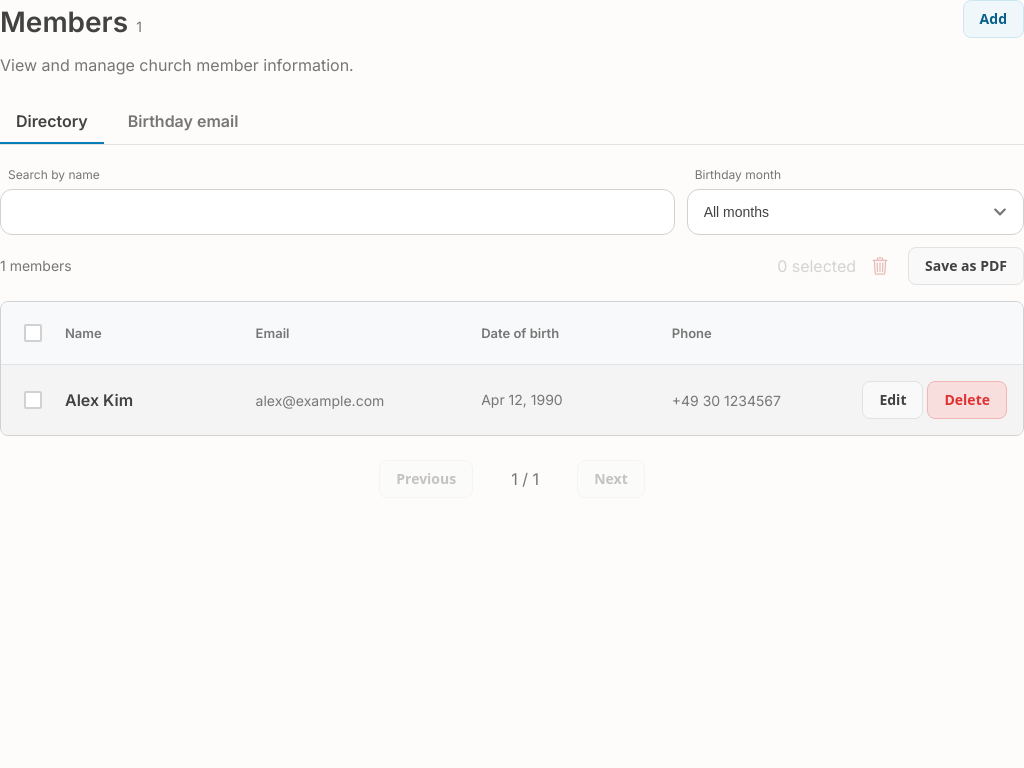
Scenario: Members add dialog validation › opens the edit dialog with the selected member values
The width and height of the screenshot is (1024, 768).
Later steps or results of the test are not shown.
Click the button "Edit" at (893, 400), box [862,381,924,419]
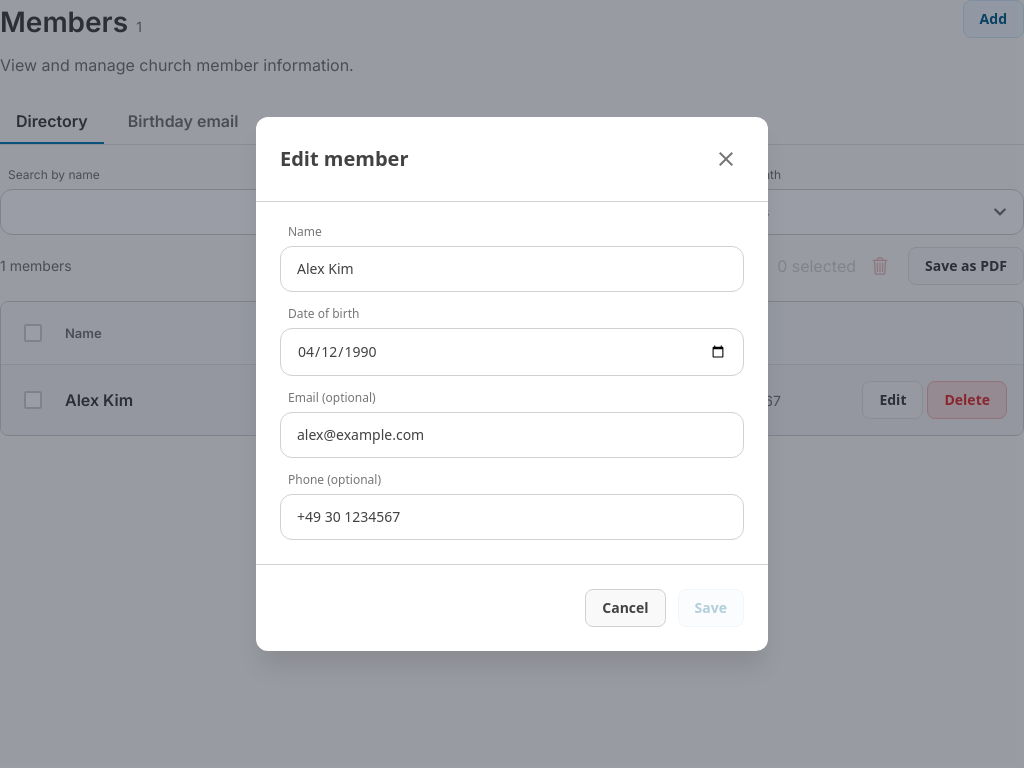
Expected: the heading "Edit member" is shown, [280,143,408,175]
Expected: the field labelled "Name" holds "Alex Kim", [297,259,727,279]
Expected: the date field labelled "Date of birth" holds "1990-04-12", [297,341,727,363]
Replace the text in the field labelled "Email (optional)" with "alex@example.org" at (512, 435), box [297,425,727,445]
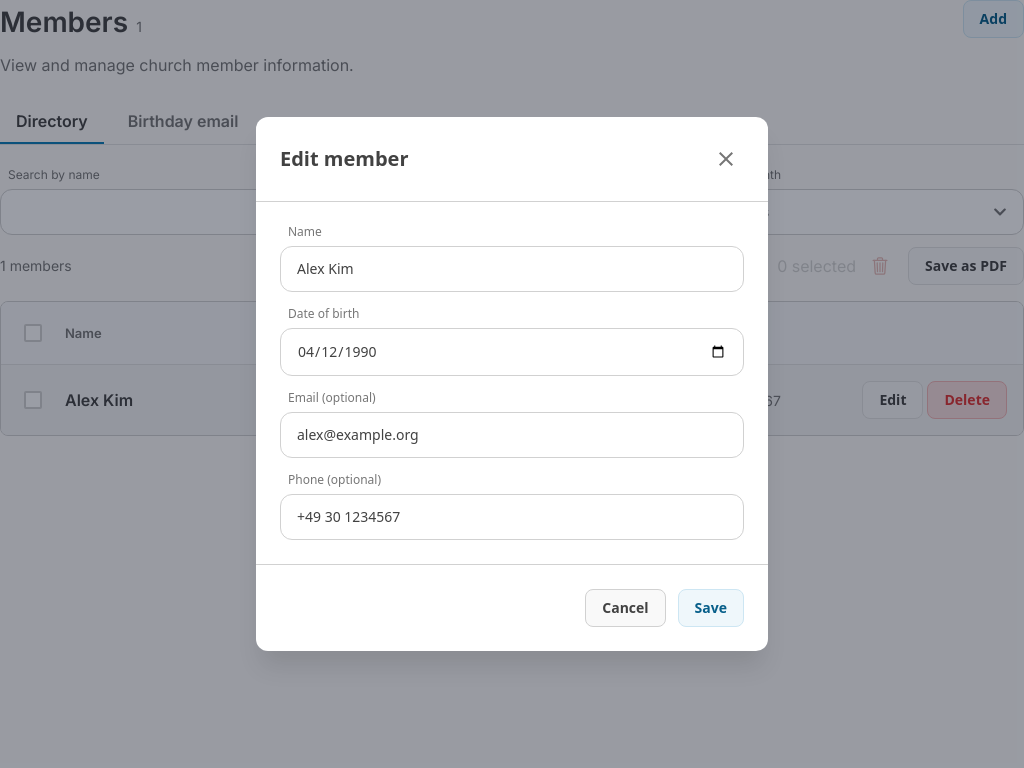
Expected: the button "Save" is enabled, [678,589,744,627]
Replace the text in the field labelled "Email (optional)" with "alex@example.com" at (512, 435), box [297,425,727,445]
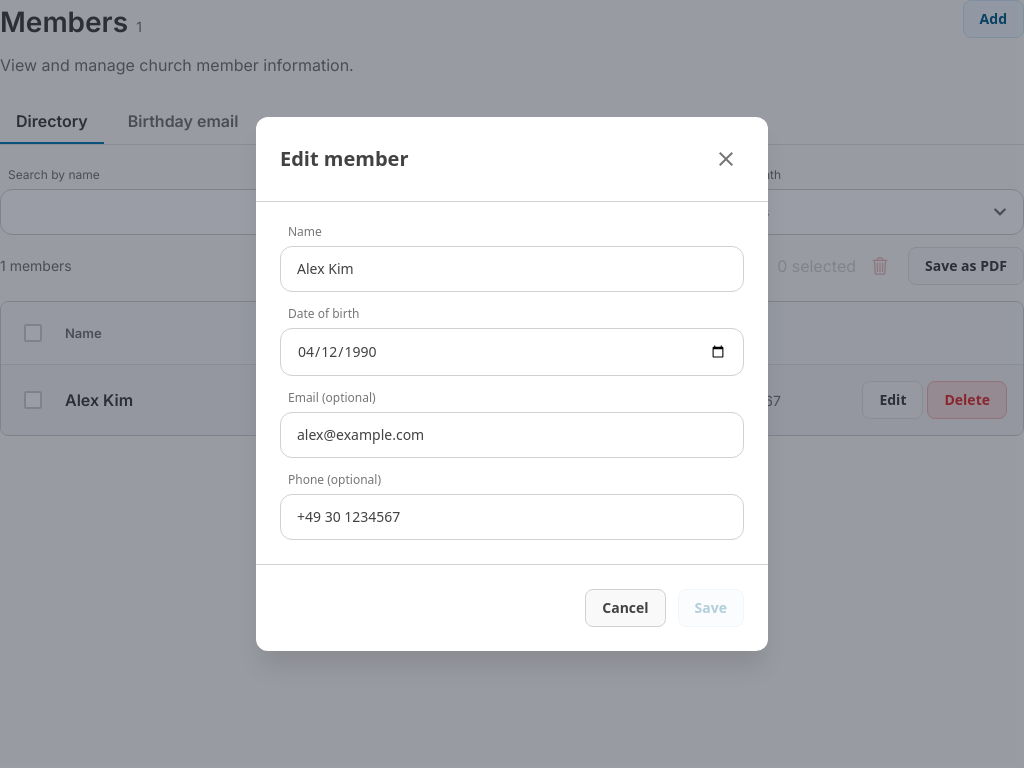
Expected: the button "Save" is disabled, [678,589,744,627]
Replace the text in the field labelled "Name" with "Alex Kim 2" at (512, 269), box [297,259,727,279]
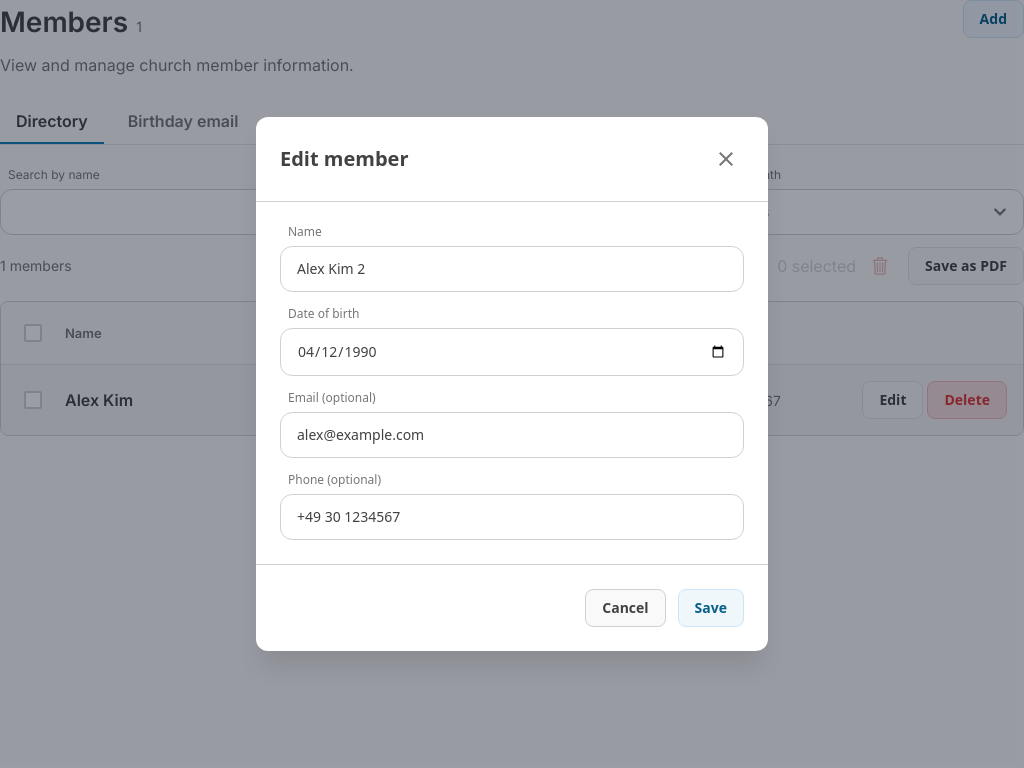
Expected: the button "Save" is enabled, [678,589,744,627]
